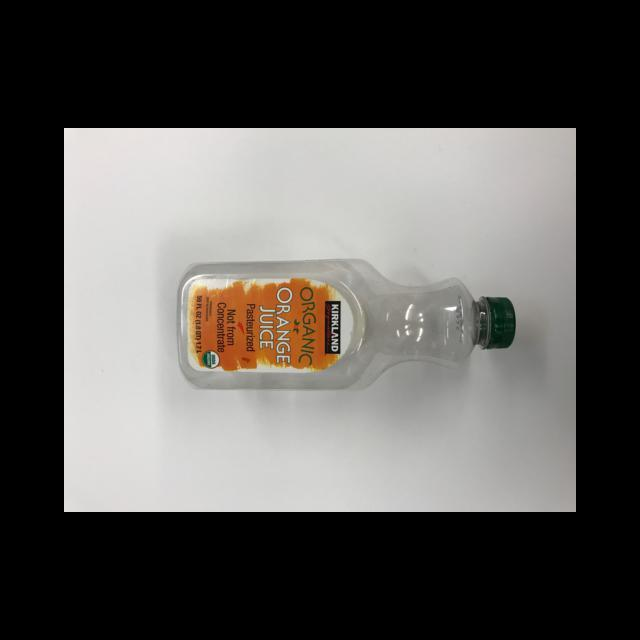plastic: (176, 259, 515, 390), (475, 293, 515, 361)
